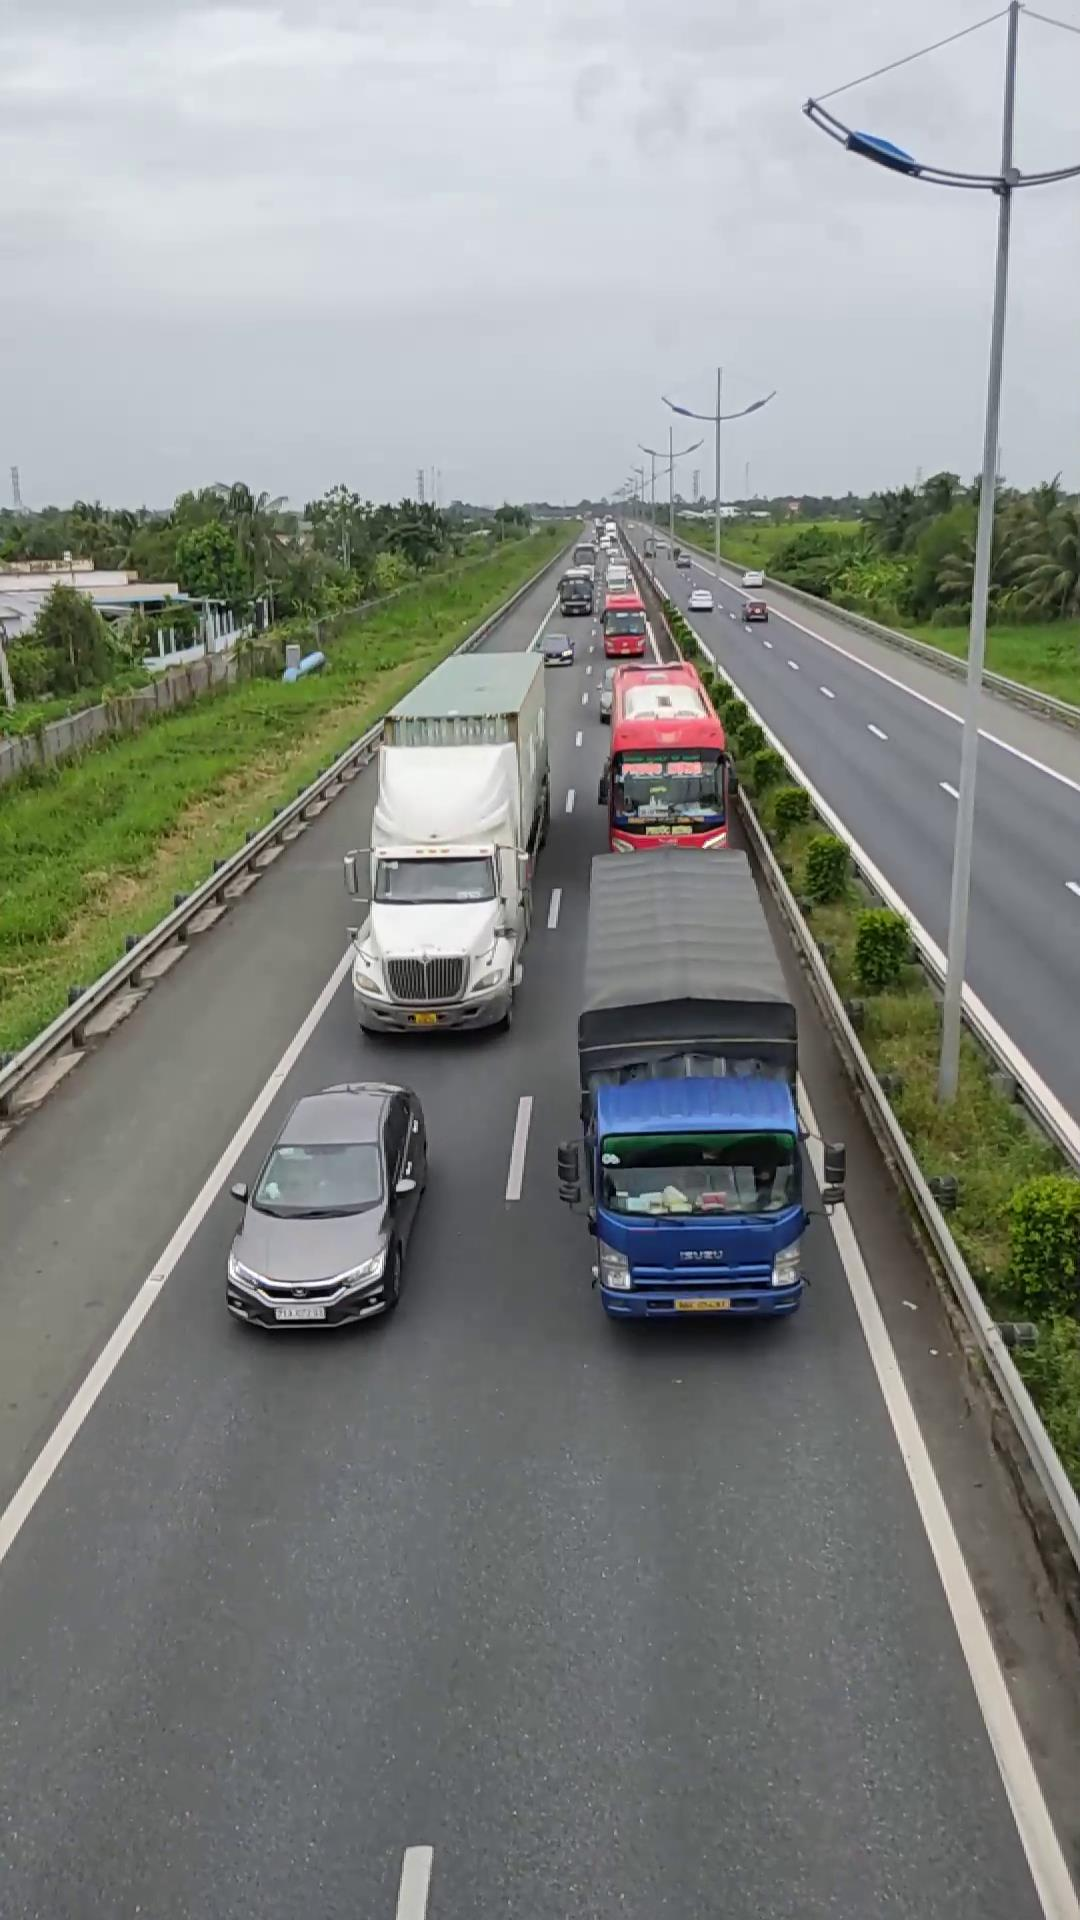car: (223, 1081, 433, 1330)
container: (348, 642, 554, 1039)
truck: (557, 858, 820, 1326)
